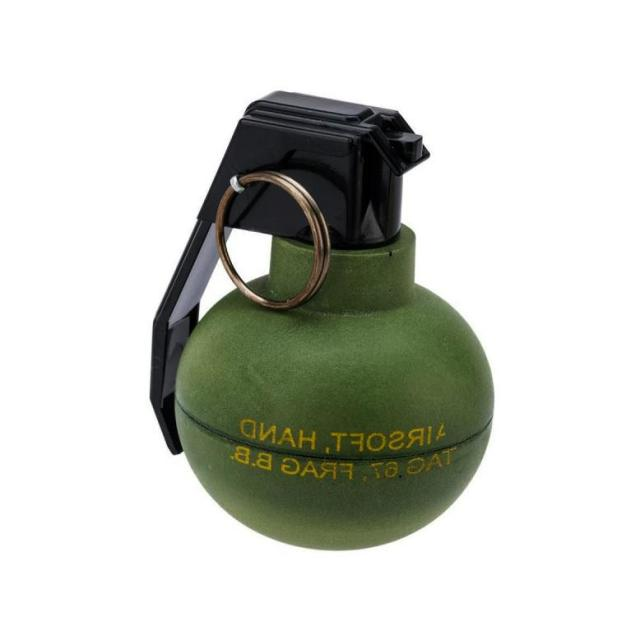grenade: (150, 91, 494, 553)
